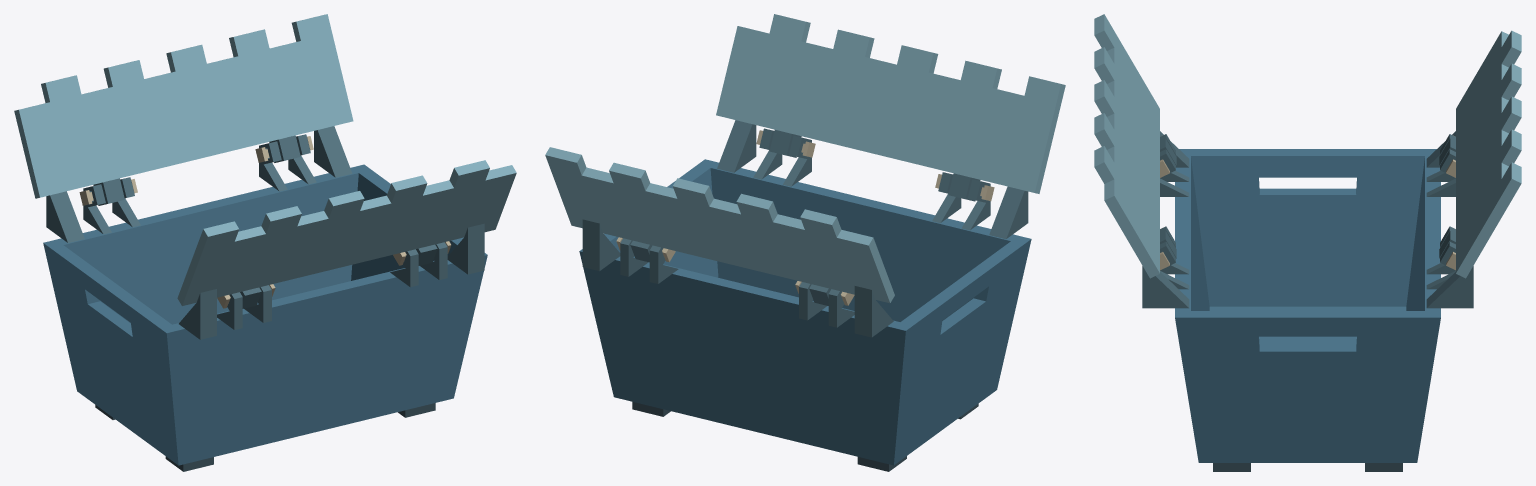
3 renders of one model, left to right at view 1: azimuth 30°, elevation 25°; view 2: azimuth 150°, elevation 25°; view 3: azimuth 270°, elevation 25°, orthographic. The views are drawn at different scales.
Visible parts, largest first — view 1: ContinuousTaperedDeepToteShell, Rear_CompleteCombHalfLid, Front_CompleteCombHalfLid, Rear_FixedAngleStop_-0.35, Rear_FixedAngleStop_0.35, Front_FixedAngleStop_0.35, Front_FixedAngleStop_-0.35, Front_Hinge_2_LeftTrueBoredEar_RimPedestal; view 2: ContinuousTaperedDeepToteShell, Front_CompleteCombHalfLid, Rear_CompleteCombHalfLid, Front_FixedAngleStop_0.35, Front_FixedAngleStop_-0.35, Rear_FixedAngleStop_-0.35, Rear_FixedAngleStop_0.35, Rear_Hinge_2_LeftTrueBoredEar_RimPedestal, Rear_Hinge_1_LeftTrueBoredEar_RimPedestal; view 3: ContinuousTaperedDeepToteShell, Front_CompleteCombHalfLid, Rear_CompleteCombHalfLid, Front_FixedAngleStop_0.35, Rear_FixedAngleStop_0.35.
Part boxes in pixels (x1=…): ContinuousTaperedDeepToteShell: x1=43, y1=164, x2=487, y2=465; Rear_CompleteCombHalfLid: x1=14, y1=14, x2=353, y2=198; Front_CompleteCombHalfLid: x1=177, y1=160, x2=516, y2=305; Rear_FixedAngleStop_-0.35: x1=46, y1=191, x2=84, y2=242; Rear_FixedAngleStop_0.35: x1=314, y1=126, x2=352, y2=177; Front_FixedAngleStop_0.35: x1=447, y1=223, x2=484, y2=274; Front_FixedAngleStop_-0.35: x1=179, y1=289, x2=216, y2=339; Front_Hinge_2_LeftTrueBoredEar_RimPedestal: x1=390, y1=254, x2=418, y2=287; ContinuousTaperedDeepToteShell: x1=579, y1=159, x2=1031, y2=465; Front_CompleteCombHalfLid: x1=716, y1=14, x2=1065, y2=193; Rear_CompleteCombHalfLid: x1=545, y1=147, x2=894, y2=303; Front_FixedAngleStop_0.35: x1=717, y1=120, x2=756, y2=172; Front_FixedAngleStop_-0.35: x1=989, y1=186, x2=1028, y2=238; Rear_FixedAngleStop_-0.35: x1=854, y1=286, x2=893, y2=337; Rear_FixedAngleStop_0.35: x1=582, y1=219, x2=620, y2=271; Rear_Hinge_2_LeftTrueBoredEar_RimPedestal: x1=649, y1=250, x2=678, y2=283; Rear_Hinge_1_LeftTrueBoredEar_RimPedestal: x1=828, y1=294, x2=854, y2=327; ContinuousTaperedDeepToteShell: x1=1175, y1=149, x2=1440, y2=462; Front_CompleteCombHalfLid: x1=1094, y1=14, x2=1159, y2=278; Rear_CompleteCombHalfLid: x1=1456, y1=30, x2=1521, y2=278; Front_FixedAngleStop_0.35: x1=1142, y1=266, x2=1189, y2=308; Rear_FixedAngleStop_0.35: x1=1426, y1=266, x2=1473, y2=308.
Bounding box in the file's own units: 0.84 × 0.7184 × 0.8994.
